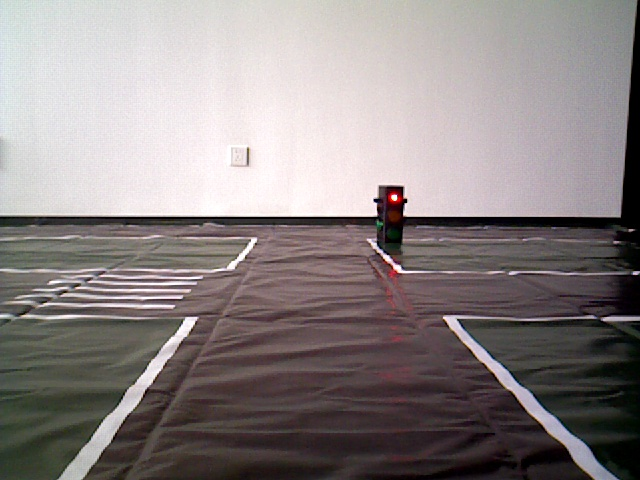red: (376, 186, 402, 245)
